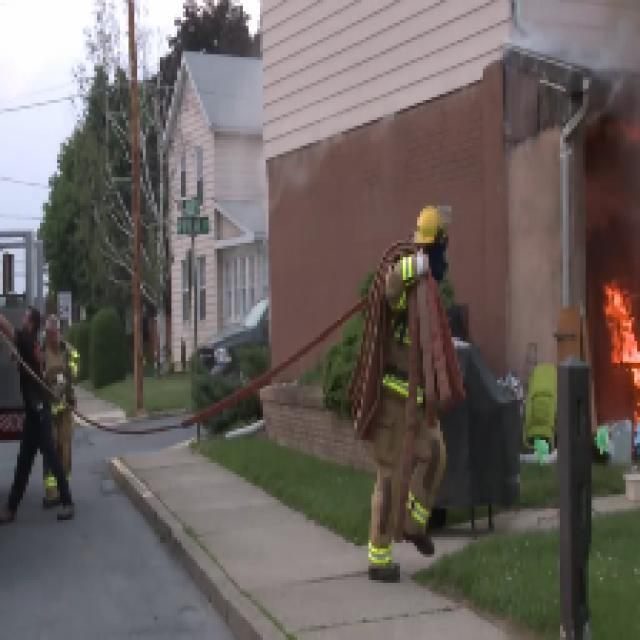Fire: (574, 69, 640, 532)
Smoke: (348, 0, 640, 197)
